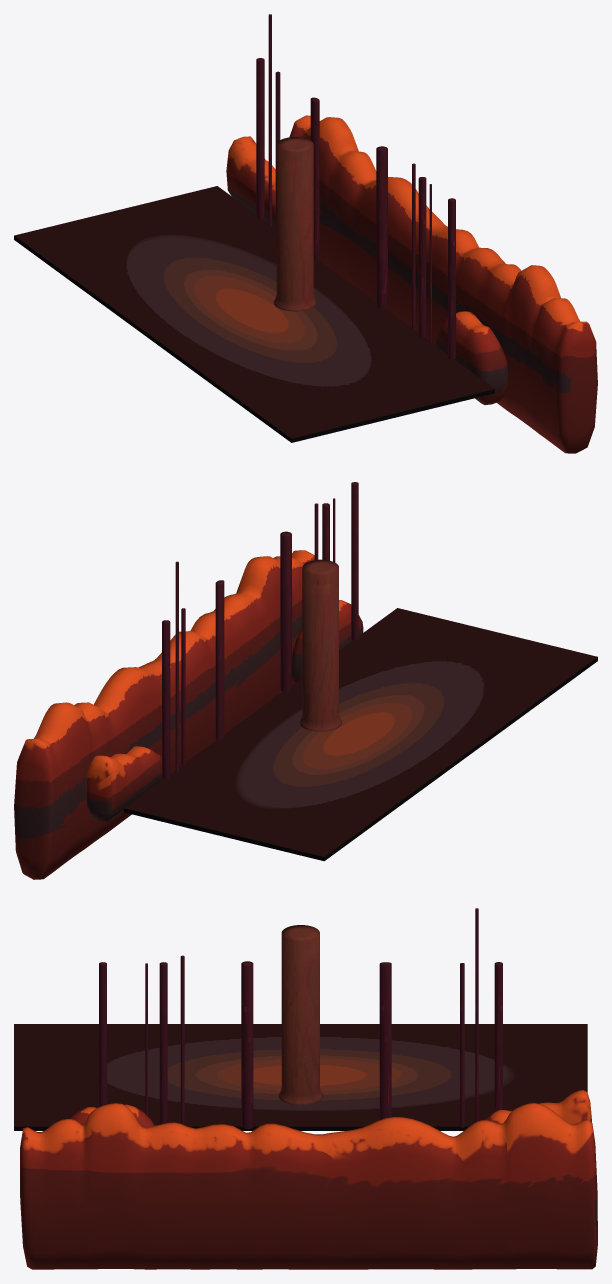
File: Escenario.fbx
The picture shows the model from 3 angles, top to bottom: view 1: azimuth 30°, elevation 25°; view 2: azimuth 150°, elevation 25°; view 3: azimuth 270°, elevation 25°; orthographic projection. The views are drawn at different scales.
Visible parts, largest first — view 1: Suelo, Cube.001, palo_01.009, palo_01.004, palo_01, palo_01.005, palo_01.008, palo_01.003, palo_01.001, palo_01.006, palo_01.002; view 2: Suelo, Cube.001, palo_01.009, palo_01.004, palo_01.003, palo_01, palo_01.008, palo_01.001, palo_01.002; view 3: Cube.001, Suelo, palo_01.009, palo_01.004, palo_01.003, palo_01.005, palo_01, palo_01.008, palo_01.001, palo_01.006, palo_01.002.
Part boxes in pixels (box(x1,y1,x2,y2)): Suelo: box(14, 186, 494, 442); Cube.001: box(226, 115, 597, 453); palo_01.009: box(273, 137, 316, 311); palo_01.004: box(376, 146, 387, 308); palo_01: box(256, 58, 264, 218); palo_01.005: box(418, 177, 426, 337); palo_01.008: box(448, 198, 455, 359); palo_01.003: box(310, 97, 319, 259); palo_01.001: box(268, 14, 271, 225); palo_01.006: box(412, 163, 415, 330); palo_01.002: box(275, 71, 280, 230); Suelo: box(124, 608, 597, 861); Cube.001: box(14, 550, 363, 879); palo_01.009: box(299, 559, 342, 731); palo_01.004: box(280, 531, 291, 691); palo_01.003: box(215, 580, 224, 739); palo_01: box(162, 620, 170, 778); palo_01.008: box(351, 482, 358, 640); palo_01.001: box(175, 561, 178, 770); palo_01.002: box(181, 608, 185, 765); Cube.001: box(20, 1090, 597, 1269); Suelo: box(14, 1024, 587, 1130); palo_01.009: box(278, 925, 323, 1105); palo_01.004: box(241, 961, 253, 1129); palo_01.003: box(379, 962, 391, 1119); palo_01.005: box(159, 962, 167, 1124); palo_01: box(494, 962, 502, 1111); palo_01.008: box(99, 962, 106, 1106); palo_01.001: box(475, 908, 478, 1122); palo_01.006: box(180, 955, 184, 1125); palo_01.002: box(460, 963, 464, 1127).
Size of the model in its own units: 1534 by 1423 by 2406.
